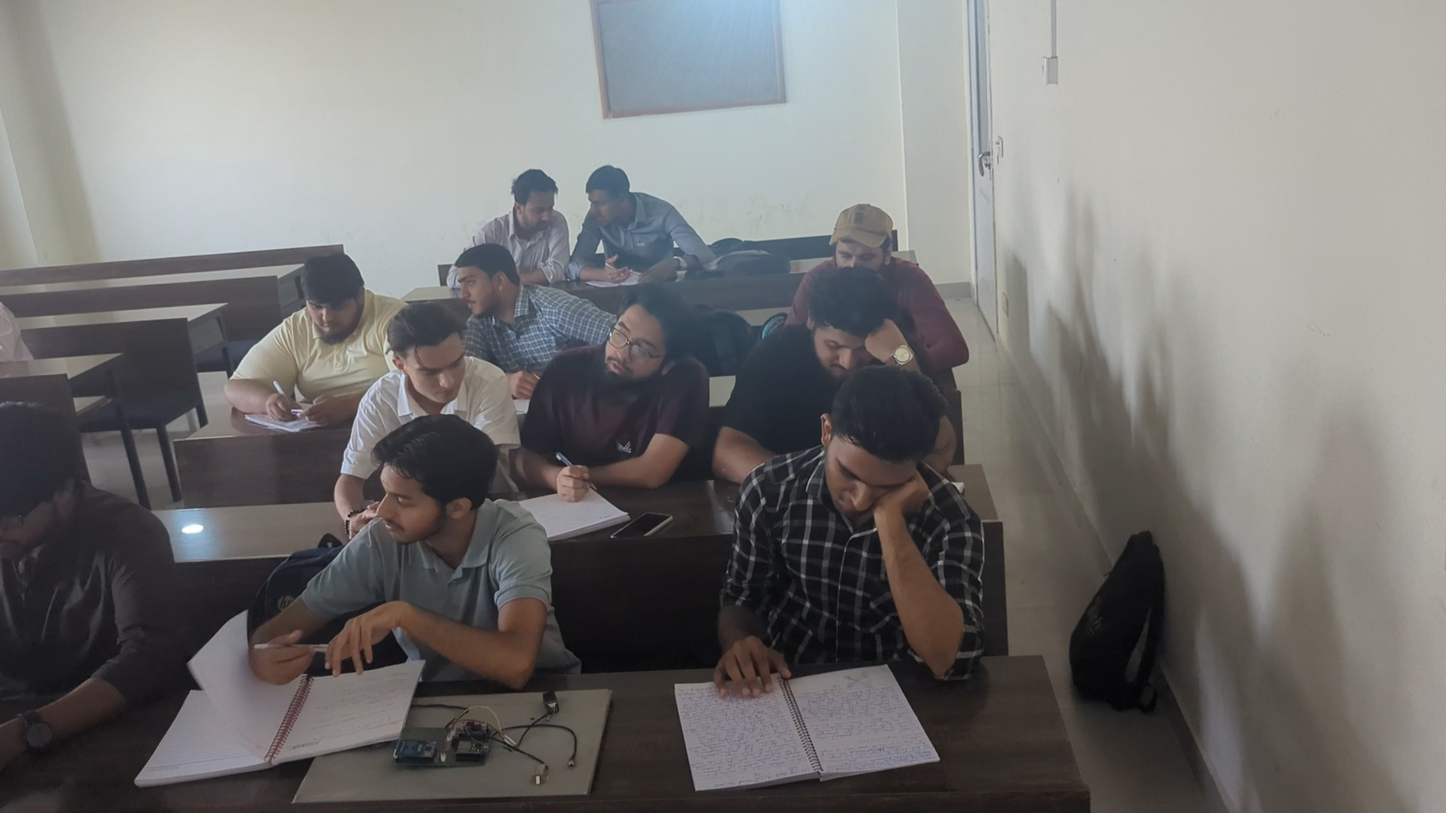look_forward: (524, 290, 726, 515), (448, 239, 569, 337)
read: (249, 410, 577, 727), (721, 368, 982, 741), (728, 273, 919, 377)
turn_head: (570, 162, 726, 283), (471, 165, 583, 256)
write: (228, 248, 388, 428), (364, 299, 507, 411)
